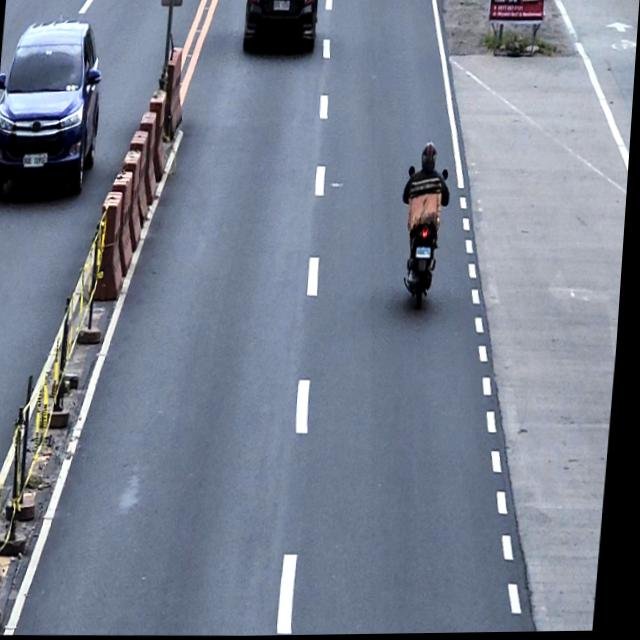Car: (0, 15, 107, 201), (242, 0, 319, 53)
License-Plate: (24, 152, 50, 167), (418, 247, 435, 260), (272, 0, 291, 11)
Motorcycle: (398, 166, 453, 310)
